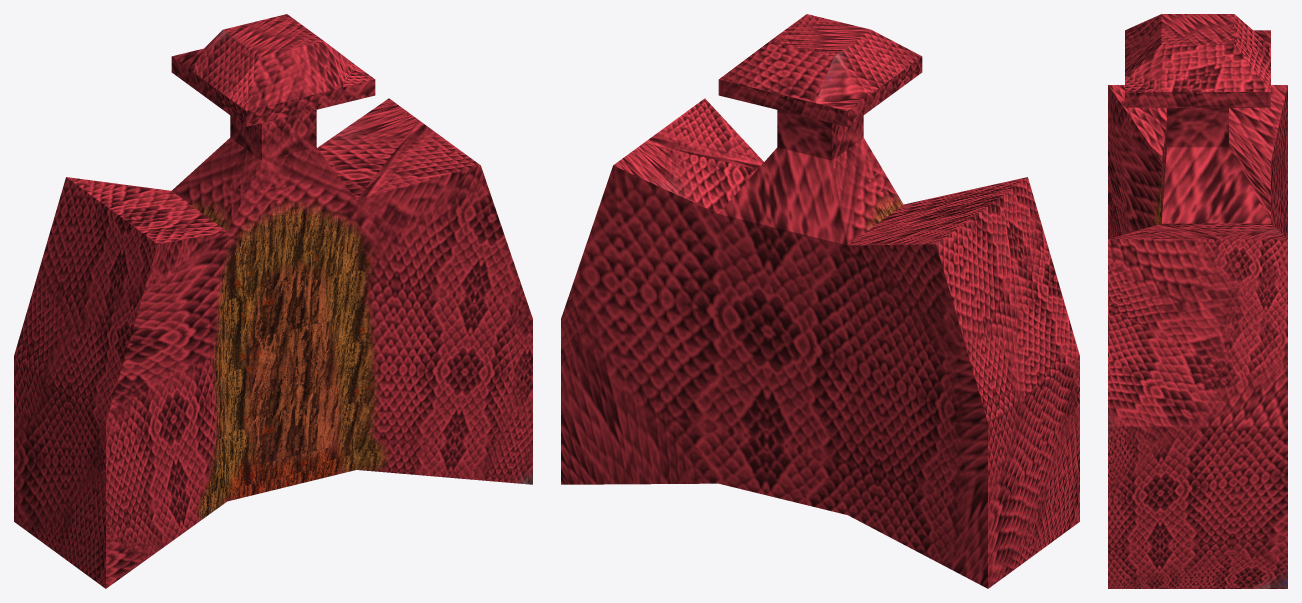
The model's file is thing_1.fbx.
The picture shows the model from 3 angles, left to right: view 1: azimuth 30°, elevation 25°; view 2: azimuth 150°, elevation 25°; view 3: azimuth 270°, elevation 25°; orthographic projection. The views are drawn at different scales.
Visible parts, largest first — view 1: Cube; view 2: Cube; view 3: Cube.
Boxes of the visible parts, <box> form: Cube: <box>14,14,532,588</box>; Cube: <box>561,14,1079,588</box>; Cube: <box>1108,14,1287,588</box>.
Size of the model in its own units: 269 by 281 by 100.
